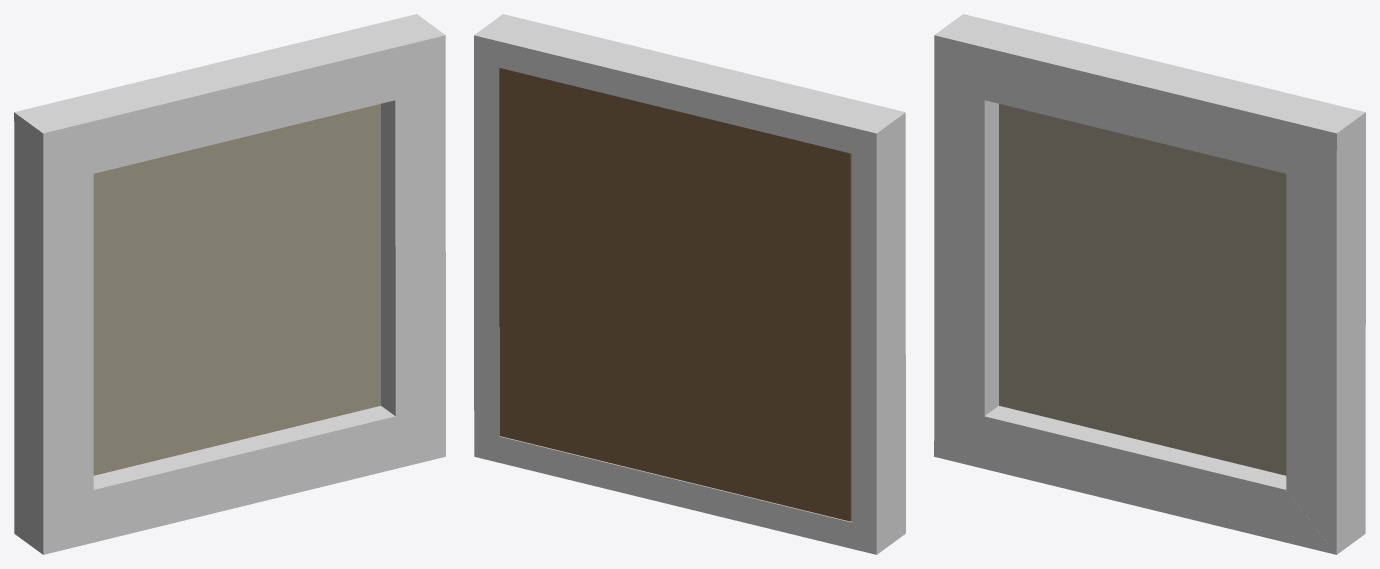
The model's file is cuadroIluminado.glb.
3 views of the same model, side by side, from view 1: azimuth 30°, elevation 25°; view 2: azimuth 150°, elevation 25°; view 3: azimuth 330°, elevation 25° (orthographic).
Visible parts, largest first — view 1: tapa, vidrio, liston.001, liston.004, liston.002, liston.003; view 2: tapa, liston.001, liston.004, liston.003, liston.002; view 3: tapa, vidrio, liston.002, liston.004, liston.001, liston.003.
Part boxes in pixels (x1,y1,x2,y2): tapa: (93, 104, 380, 475); vidrio: (94, 104, 380, 475); liston.001: (14, 112, 93, 554); liston.004: (14, 14, 445, 173); liston.002: (381, 36, 445, 456); liston.003: (19, 406, 445, 554); tapa: (499, 68, 851, 521); liston.001: (851, 112, 905, 554); liston.004: (474, 14, 905, 153); liston.003: (474, 436, 896, 554); liston.002: (474, 35, 499, 456); tapa: (999, 104, 1286, 475); vidrio: (999, 104, 1285, 475); liston.002: (1286, 112, 1365, 554); liston.004: (934, 14, 1365, 173); liston.001: (934, 36, 998, 456); liston.003: (934, 406, 1336, 554).
Size of the model in its own units: 1.6 by 1.6 by 0.2008.
